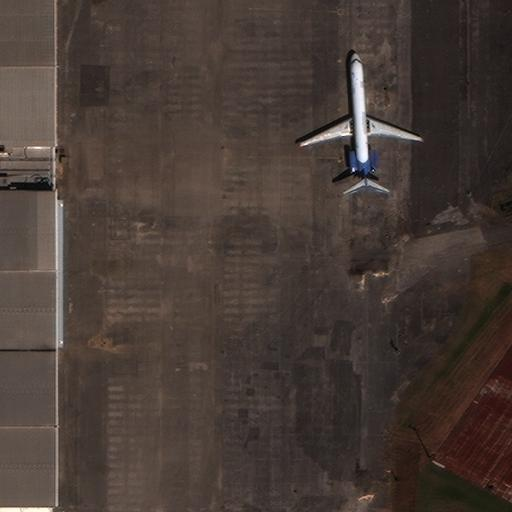Medium Civil Transport: (298, 50, 422, 192)
